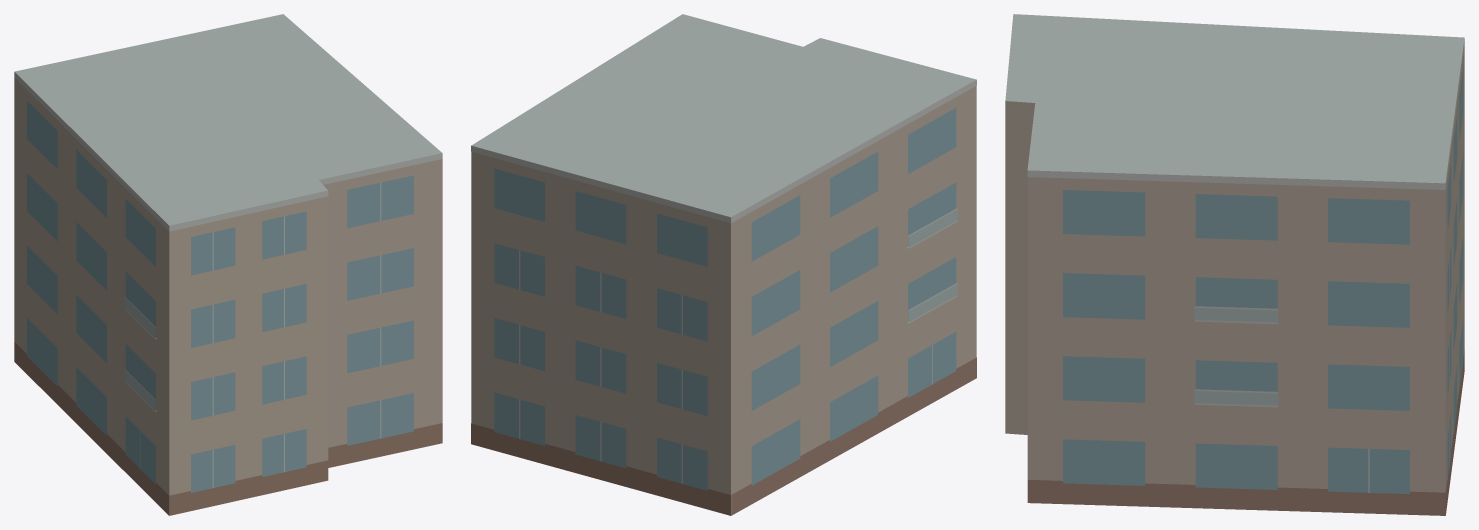
Rendered from survey-upis-32668346.glb.
3 views of the same model, side by side, from view 1: azimuth 30°, elevation 25°; view 2: azimuth 150°, elevation 25°; view 3: azimuth 270°, elevation 25° (orthographic). The views are drawn at different scales.
Parts seen in each view (by area): view 1: survey-upis-32668346.tmp; view 2: survey-upis-32668346.tmp; view 3: survey-upis-32668346.tmp.
Part boxes in pixels (<box>): survey-upis-32668346.tmp: <box>14,14,442,515</box>; survey-upis-32668346.tmp: <box>471,14,976,515</box>; survey-upis-32668346.tmp: <box>1005,14,1464,515</box>.
Bounding box in the file's own units: 13.33 × 12.2 × 15.28.
